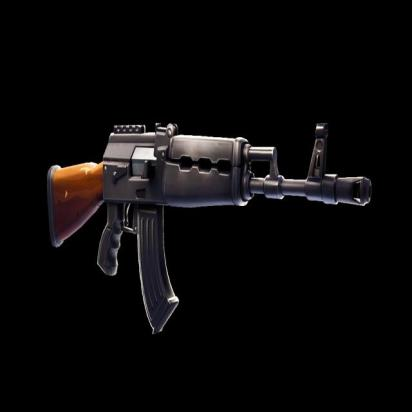Gun: (45, 116, 379, 337)
